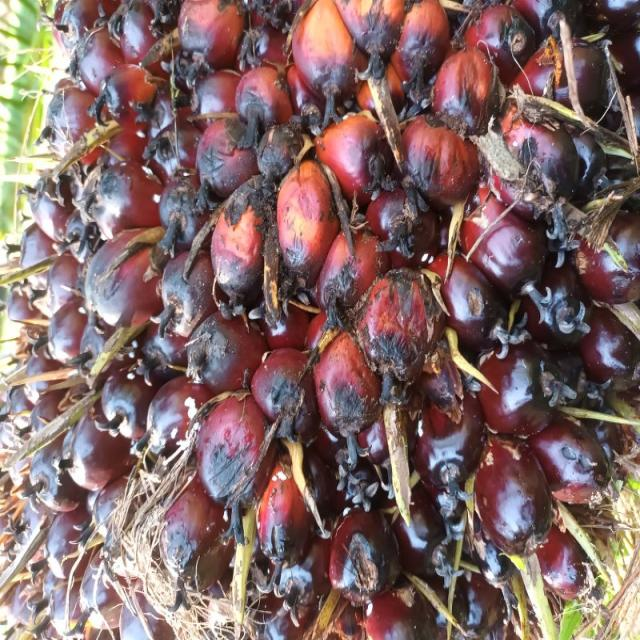fraksi 1: (0, 10, 480, 640)
